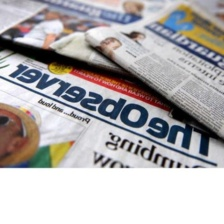news_paper: (0, 44, 224, 169), (77, 0, 224, 140), (0, 0, 179, 78)
